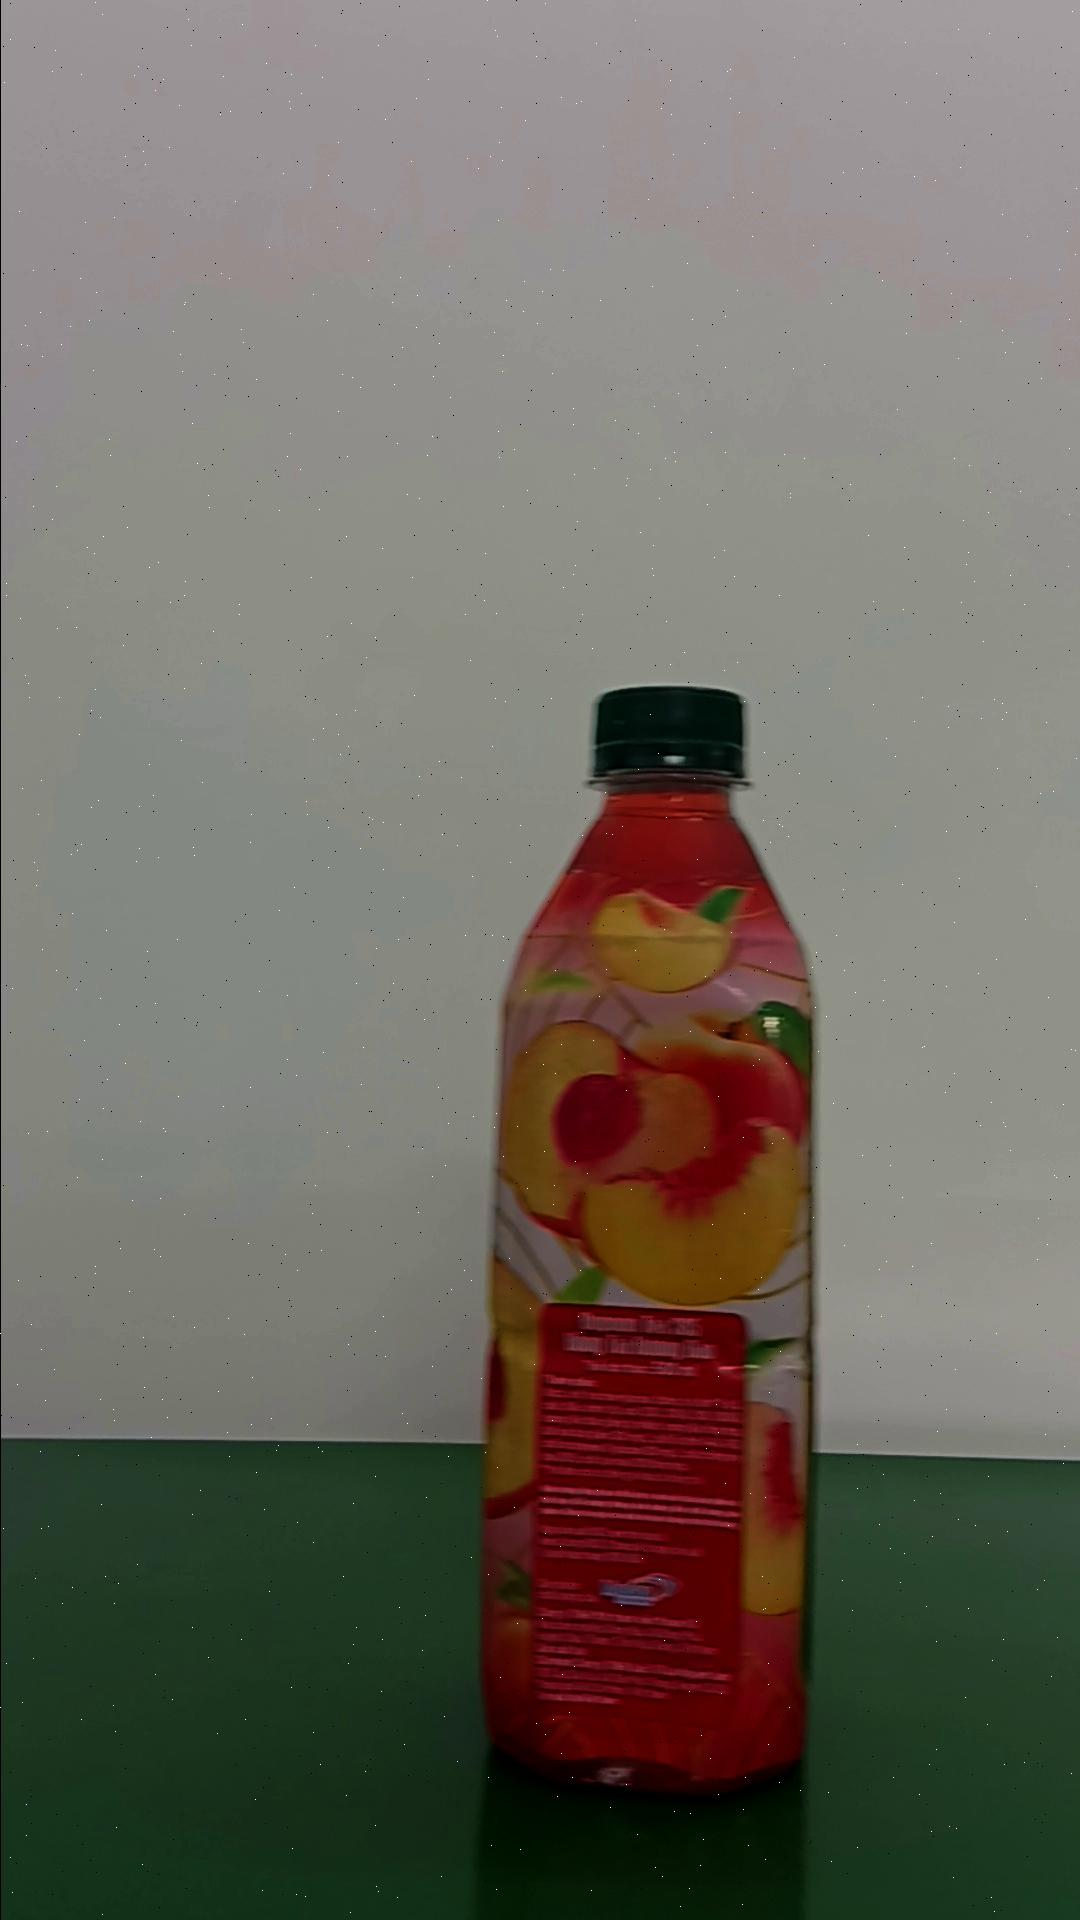khong loi: (476, 680, 819, 1797)
